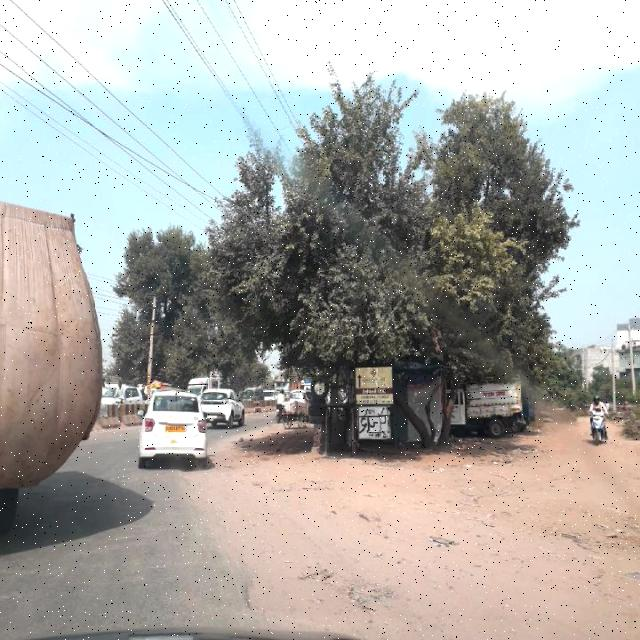D40: (237, 572, 279, 630)
